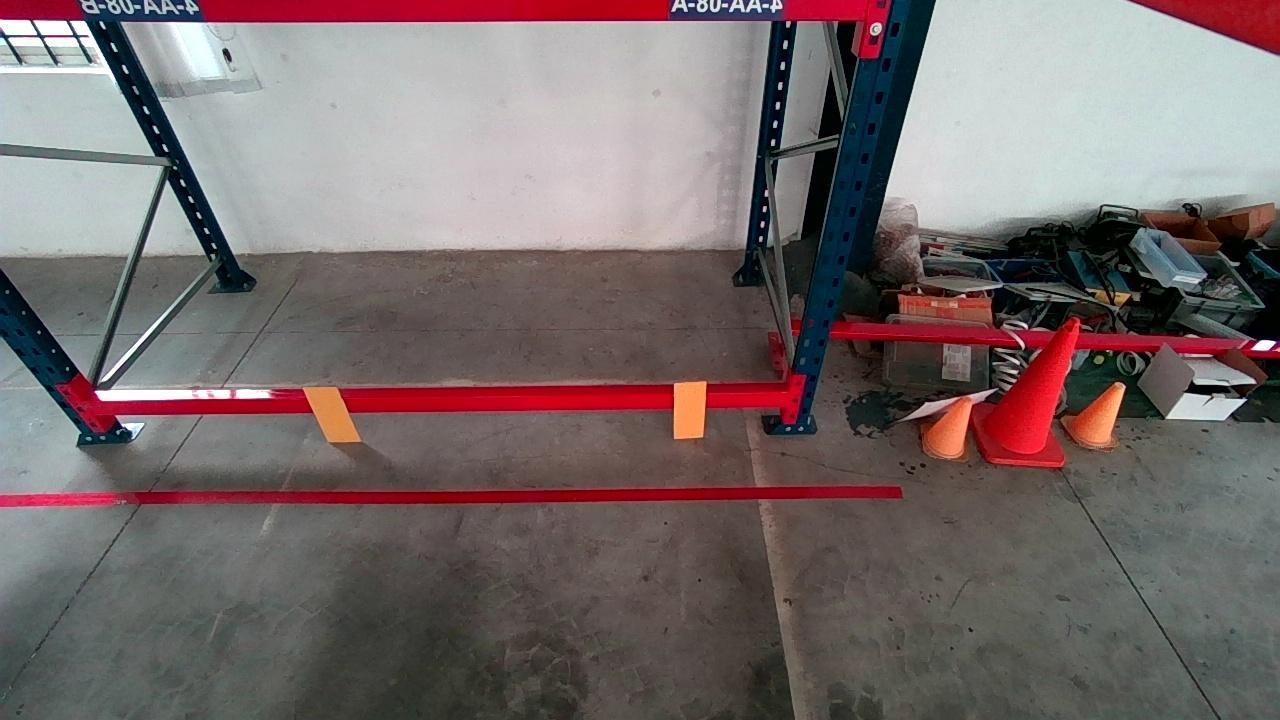h_rack: (96, 386, 785, 421), (2, 0, 865, 25)
orange_strip: (305, 386, 360, 442), (674, 380, 706, 437)
red_line: (8, 479, 888, 509)
